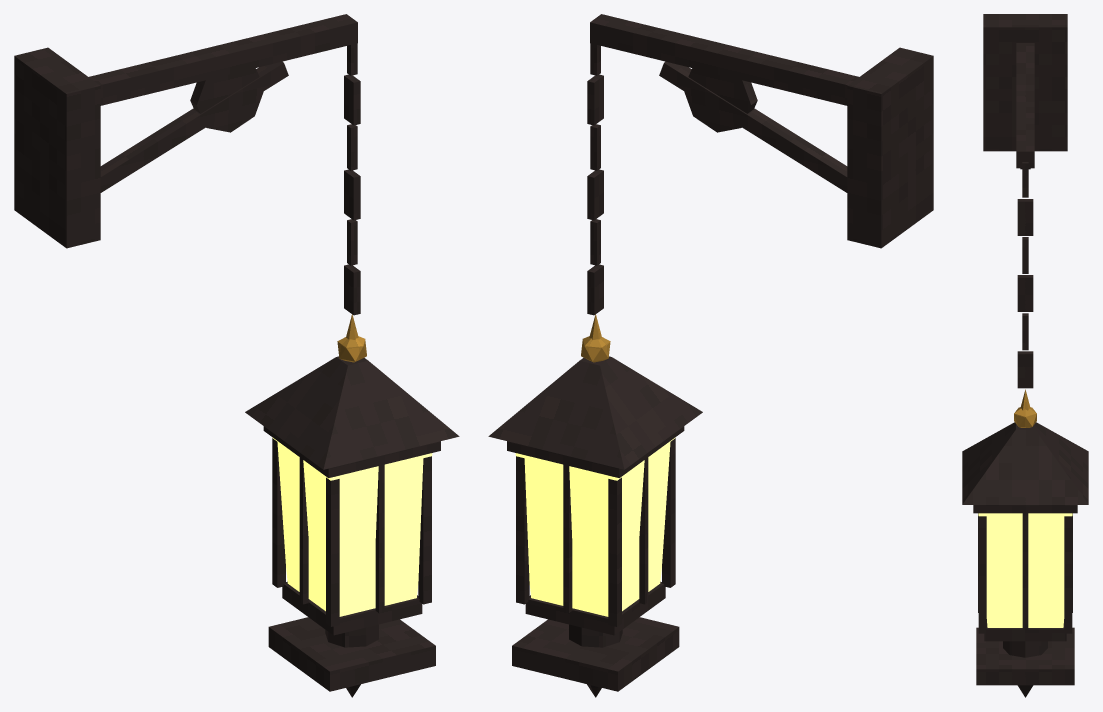
Rendered from hanging_lantern.glb.
3 renders of one model, left to right at view 1: azimuth 30°, elevation 25°; view 2: azimuth 150°, elevation 25°; view 3: azimuth 270°, elevation 25°, orthographic. The views are drawn at different scales.
Parts seen in each view (by area): view 1: HangingLantern; view 2: HangingLantern; view 3: HangingLantern.
Boxes of the visible parts, x1,y1,x2,y2 form: HangingLantern: (14,14,459,697); HangingLantern: (488,14,933,697); HangingLantern: (962,14,1088,697).
Size of the model in its own units: 0.6702 by 1.18 by 0.2404.
3 materials, 2 textured.
